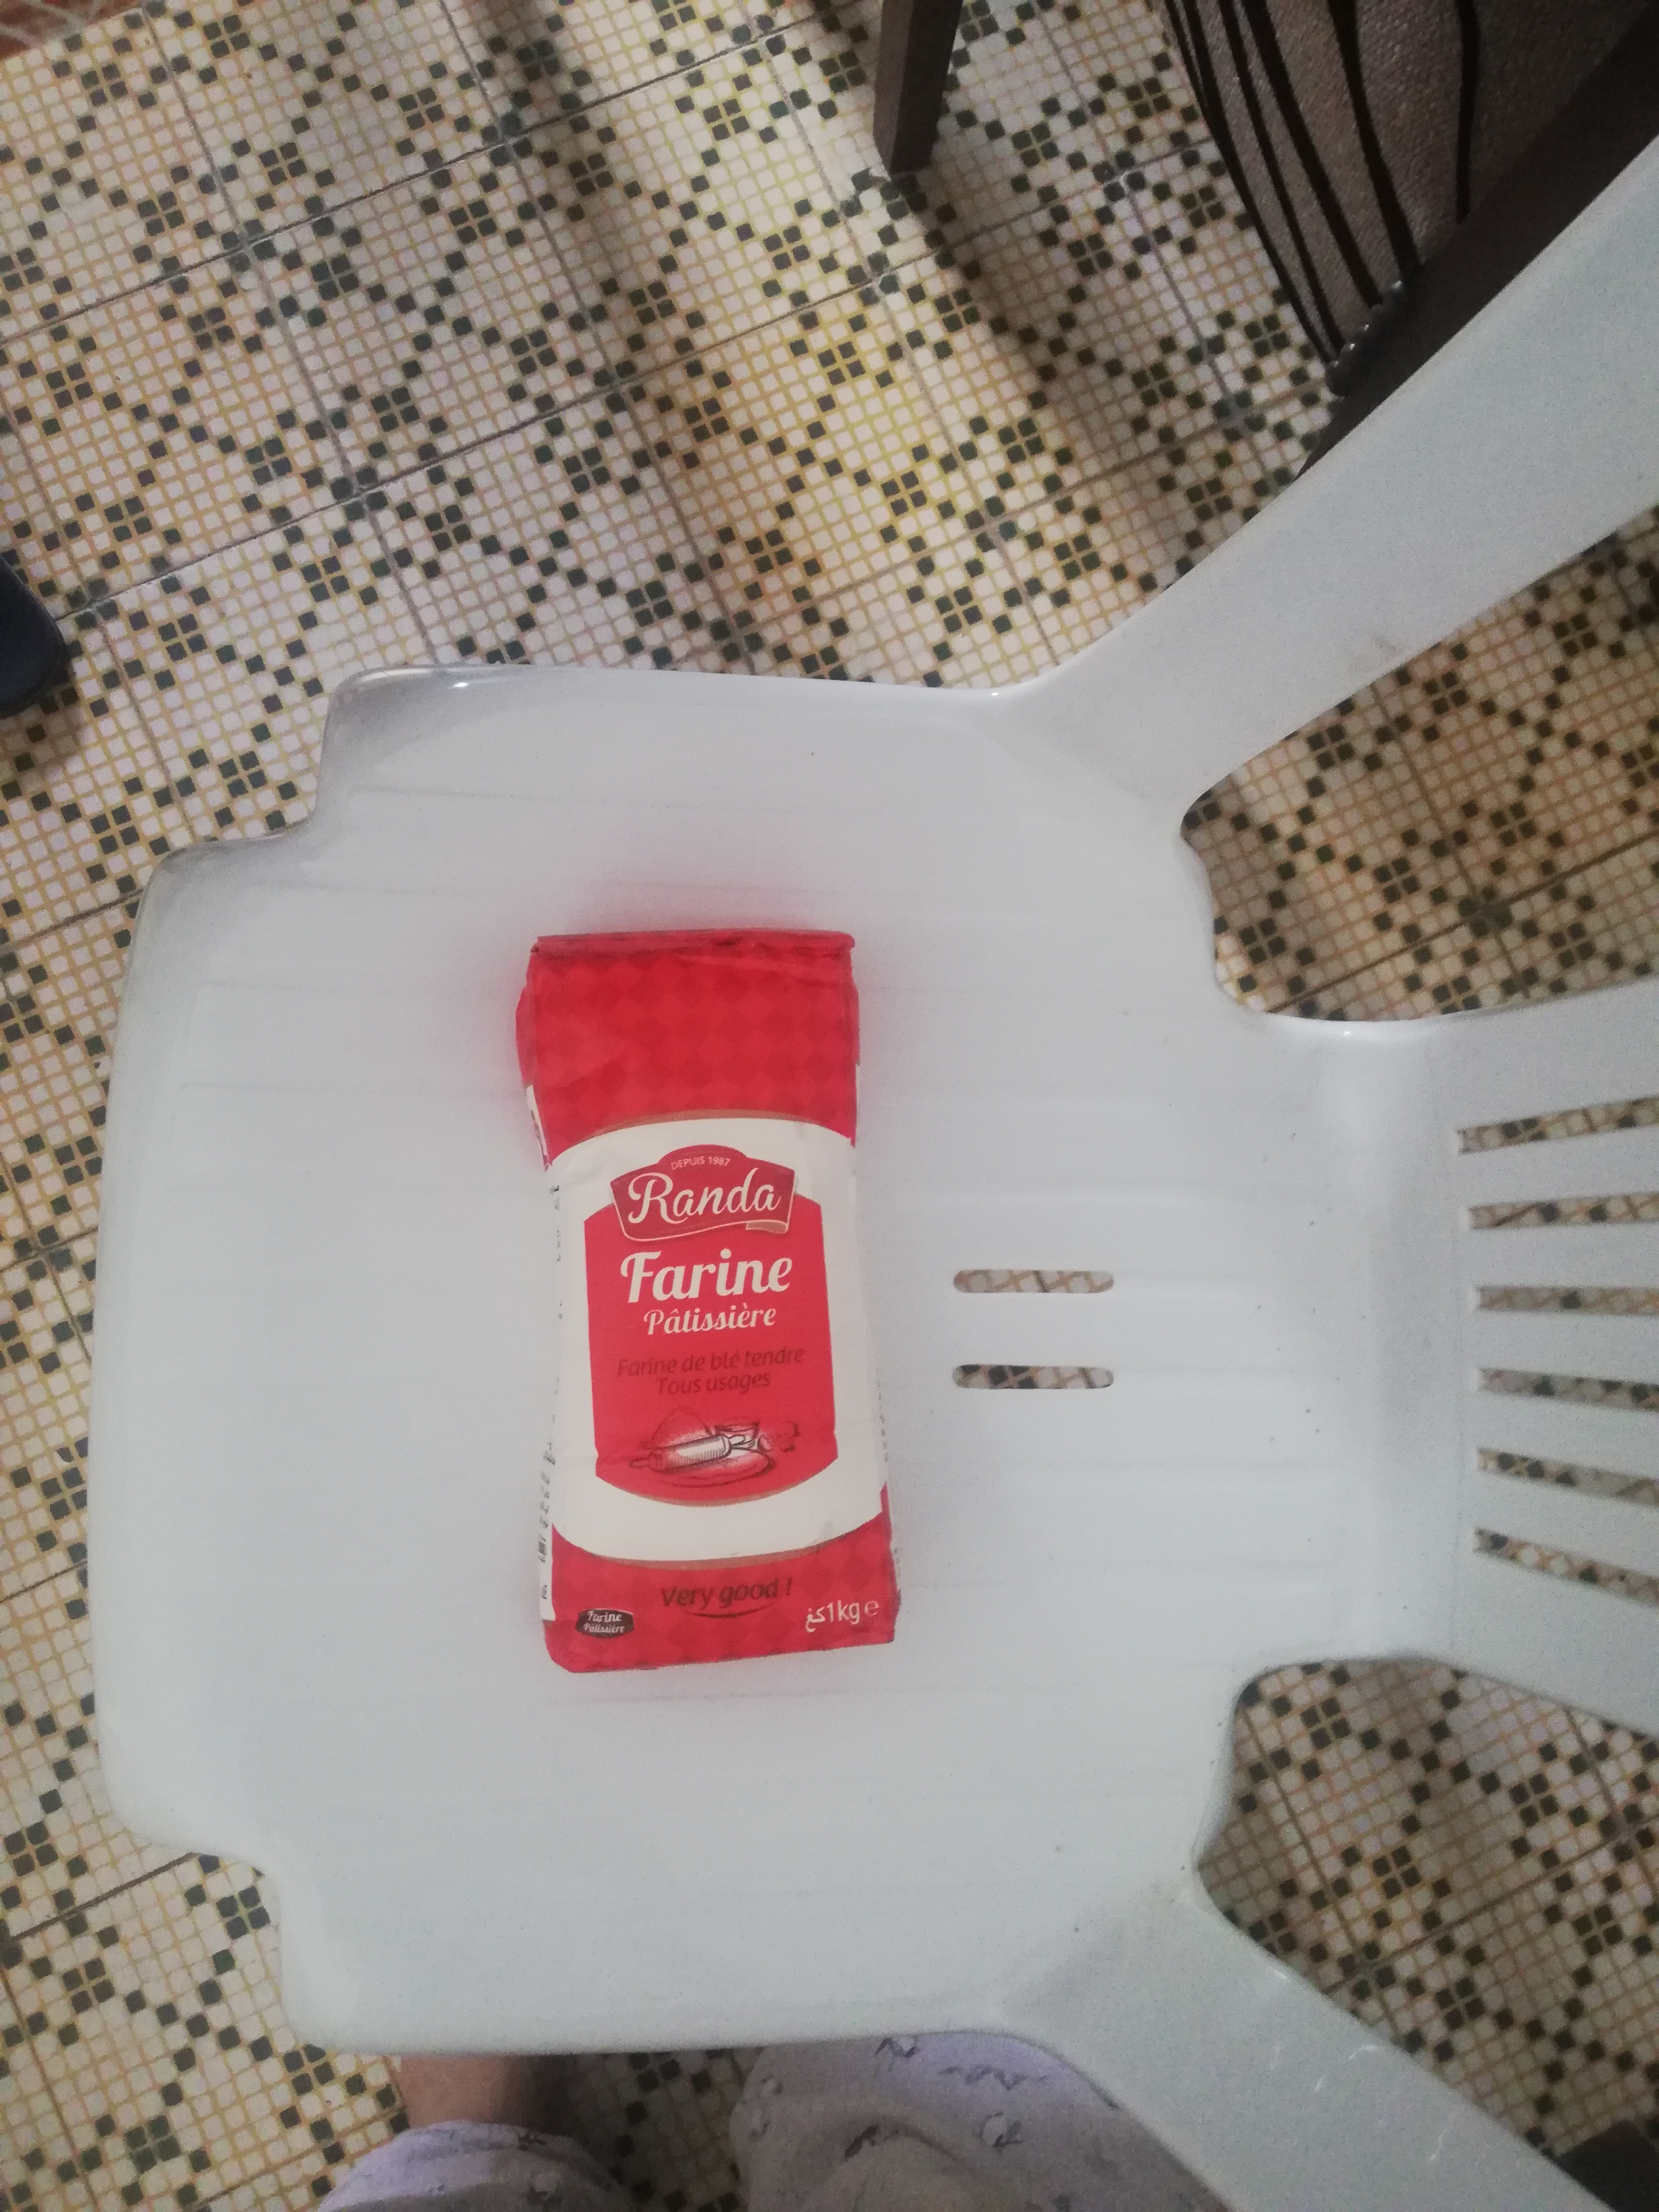Farine Randa: (521, 925, 897, 1672)
